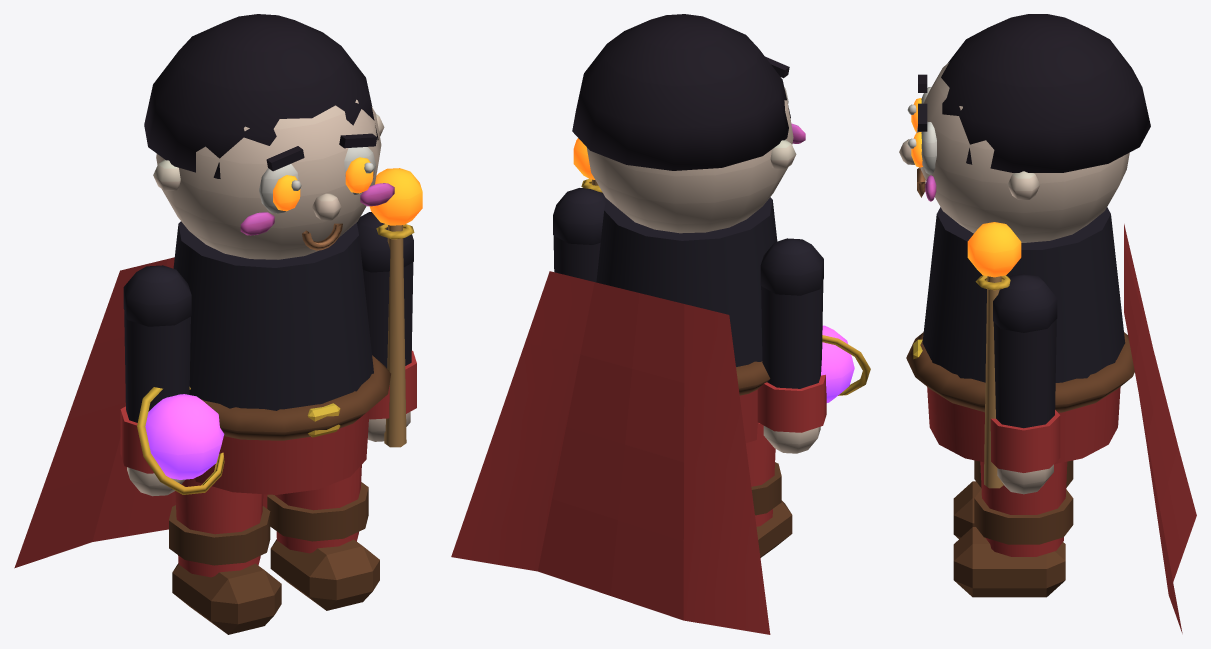
File: hero_mortimer.glb
3 renders of one model, left to right at view 1: azimuth 30°, elevation 25°; view 2: azimuth 150°, elevation 25°; view 3: azimuth 270°, elevation 25°, orthographic. The views are drawn at different scales.
Parts seen in each view (by area): view 1: body_t0_palette, legl_t0_palette, arml_t0_palette, legr_t0_palette, armr_t0_palette, arml_t0_shadow_glow, armr_t0_fire, body_t0_fire; view 2: body_t0_palette, arml_t0_palette, armr_t0_palette, legl_t0_palette, arml_t0_shadow_glow; view 3: body_t0_palette, armr_t0_palette, legr_t0_palette, armr_t0_fire, legl_t0_palette, body_t0_fire.
Part boxes in pixels (x1,y1,x2,y2): body_t0_palette: [14, 14, 394, 568]; legl_t0_palette: [169, 478, 281, 634]; arml_t0_palette: [120, 265, 224, 496]; legr_t0_palette: [267, 465, 379, 610]; armr_t0_palette: [357, 212, 416, 447]; arml_t0_shadow_glow: [145, 394, 224, 479]; armr_t0_fire: [369, 168, 422, 225]; body_t0_fire: [273, 157, 373, 211]; body_t0_palette: [451, 14, 805, 634]; arml_t0_palette: [757, 238, 870, 453]; armr_t0_palette: [553, 179, 606, 282]; legl_t0_palette: [746, 423, 792, 557]; arml_t0_shadow_glow: [821, 325, 854, 402]; body_t0_palette: [899, 14, 1196, 633]; armr_t0_palette: [975, 273, 1060, 494]; legr_t0_palette: [953, 461, 1073, 597]; armr_t0_fire: [967, 222, 1021, 277]; legl_t0_palette: [953, 460, 1073, 538]; body_t0_fire: [911, 98, 922, 167].
Size of the model in its own units: 0.32 by 0.508 by 0.253.
